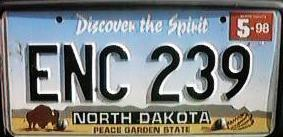placa de veiculo: (6, 7, 269, 135)
